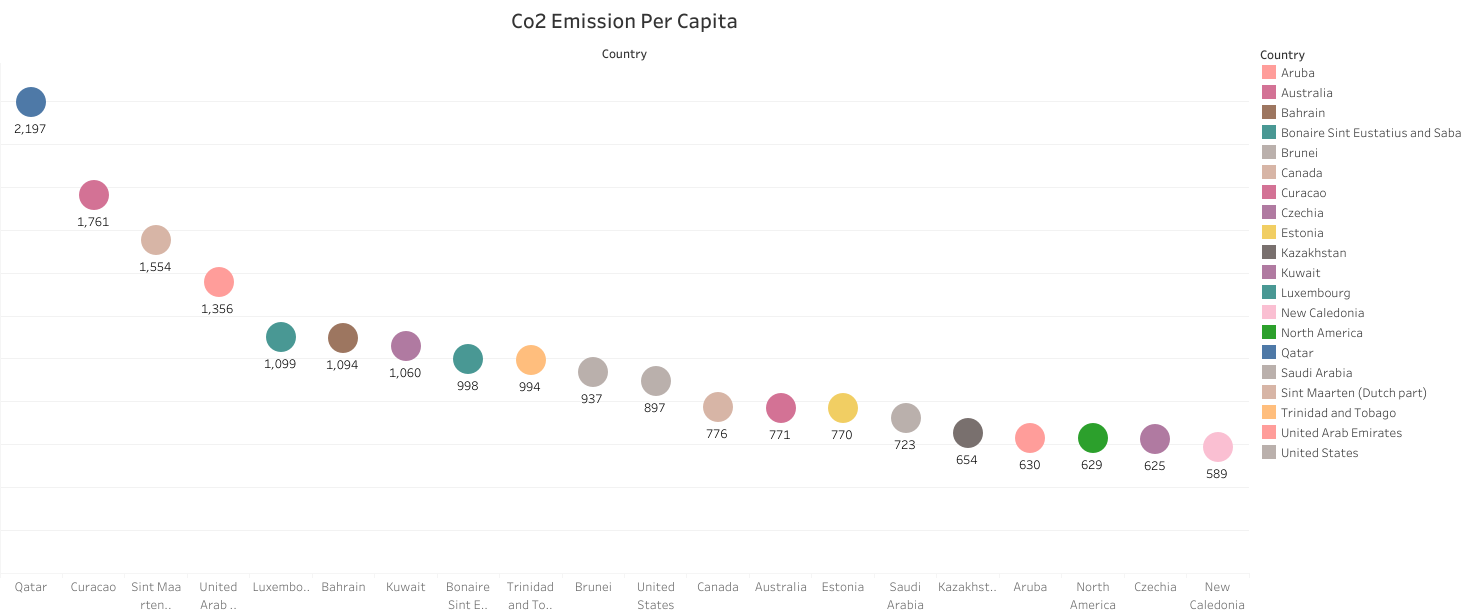

This screenshot's page, from the dashboard's own definition file:
{"tool":"tableau","page":{"name":"Dashboard 3","canvas":[1000,800],"ordinal":0},"visuals":[{"type":"worksheet","title":"Sheet 1","mark":"Automatic","rows":["cement_co2","coal_co2"],"cols":["Cement Co2 (bin)"],"box":[8,8,412,392]},{"type":"worksheet","title":"Sheet 12","mark":"Automatic","cols":["year"],"box":[420,8,412,392]},{"type":"legend","title":"Sheet 1","param":"[federated.14wdvr507r5bmw1851v9e0tcwlsl].[:Measure Names]","box":[832,8,160,66]},{"type":"legend","title":"Sheet 11","param":"[federated.14wdvr507r5bmw1851v9e0tcwlsl].[sum:oil_co2:qk]","box":[832,74,160,146]},{"type":"legend","title":"Sheet 11","param":"[federated.14wdvr507r5bmw1851v9e0tcwlsl].[sum:flaring_co2_per_capita:qk]","box":[832,220,160,65]},{"type":"worksheet","title":"Sheet 11","mark":"Multipolygon","box":[8,400,412,392]},{"type":"worksheet","title":"Sheet 15","mark":"Circle","box":[420,400,412,392]}]}

Visuals, with their boxes on the page's 1000x800 design canvas (x1, y1, x2, y2). These are canvas units, not pixel positions in the 1466x613 screenshot, which may show the page scaled, cropped or inside an application window:
"Sheet 1" worksheet: bbox=[8, 8, 420, 400]
"Sheet 12" worksheet: bbox=[420, 8, 832, 400]
"Sheet 1" legend: bbox=[832, 8, 992, 74]
"Sheet 11" legend: bbox=[832, 74, 992, 220]
"Sheet 11" legend: bbox=[832, 220, 992, 285]
"Sheet 11" worksheet (Multipolygon marks): bbox=[8, 400, 420, 792]
"Sheet 15" worksheet (Circle marks): bbox=[420, 400, 832, 792]
